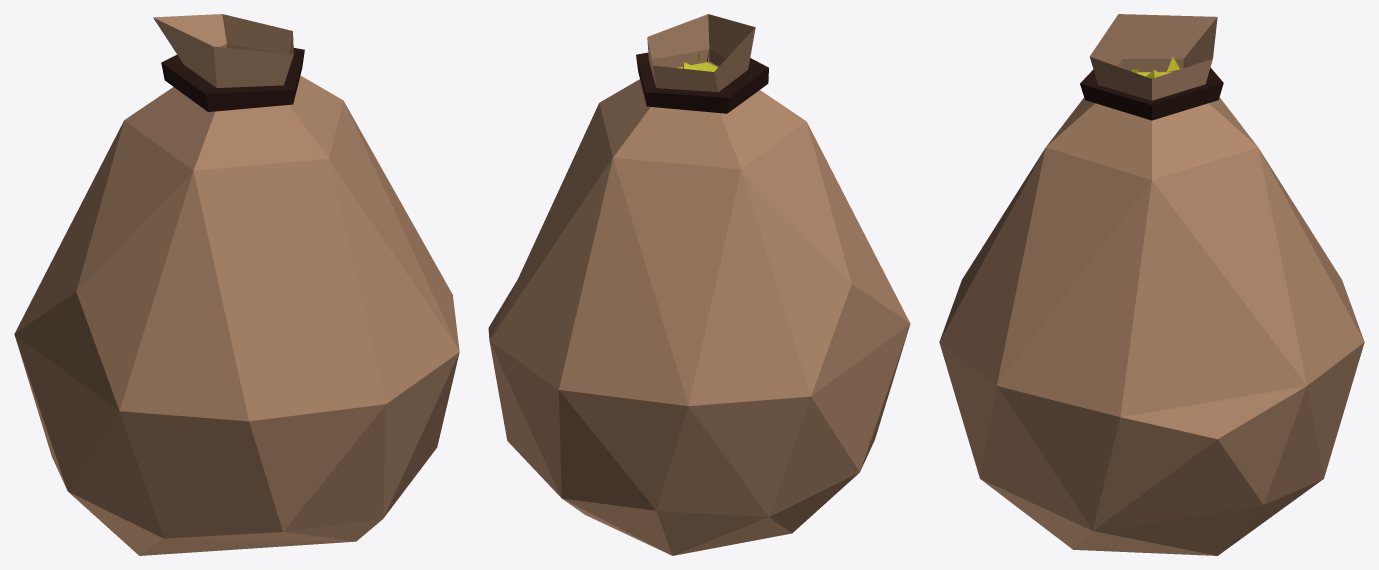
File: Sulphur.fbx
The picture shows the model from 3 angles, left to right: view 1: azimuth 30°, elevation 25°; view 2: azimuth 150°, elevation 25°; view 3: azimuth 270°, elevation 25°; orthographic projection. The views are drawn at different scales.
Parts seen in each view (by area): view 1: Icosphere.004; view 2: Icosphere.004; view 3: Icosphere.004.
Part boxes in pixels (x1,y1,x2,y2): Icosphere.004: (14, 14, 459, 555); Icosphere.004: (488, 14, 910, 555); Icosphere.004: (939, 14, 1364, 555).
Size of the model in its own units: 190 by 250 by 200.
